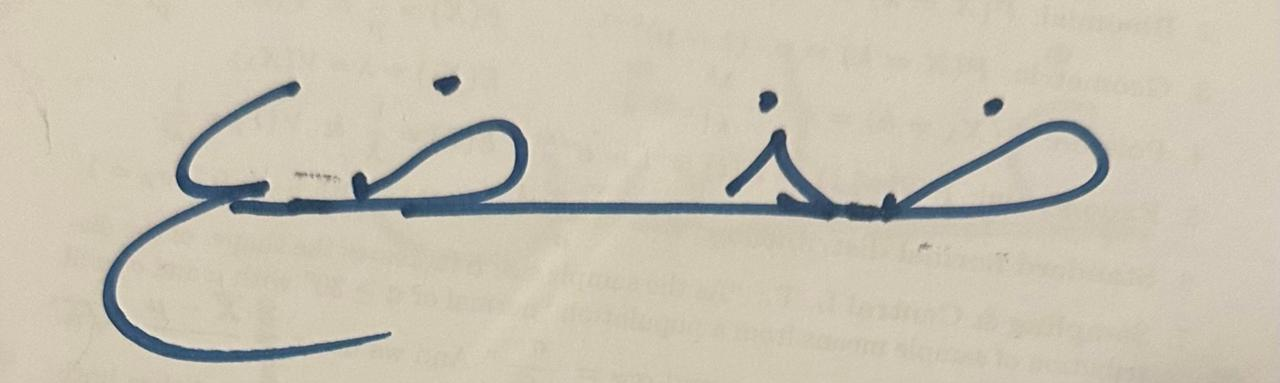ain: (85, 20, 347, 377)
dad: (851, 33, 1175, 308), (350, 22, 571, 293)
lam: (574, 10, 845, 301)
